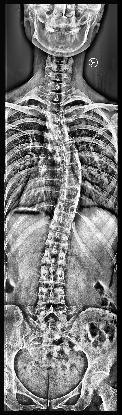Vertebrae: (37, 266, 68, 288), (36, 306, 66, 328), (42, 247, 72, 269), (36, 285, 68, 304), (50, 214, 74, 234), (53, 200, 77, 219), (44, 232, 70, 248), (60, 188, 80, 204), (62, 177, 84, 191), (62, 152, 80, 166), (57, 142, 78, 154), (64, 166, 82, 178), (55, 132, 73, 144), (50, 122, 68, 134), (47, 112, 65, 124)
